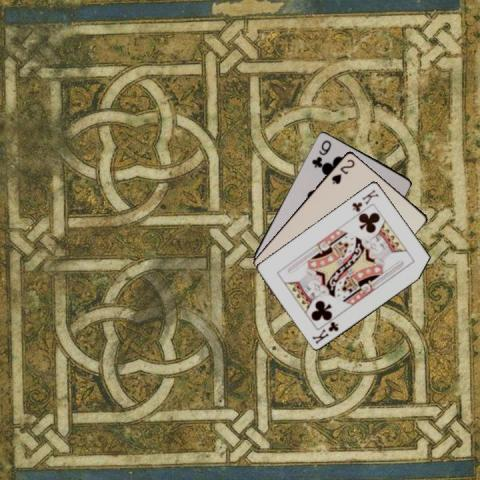2s: (329, 156, 356, 185)
9c: (308, 136, 332, 168)
Kc: (349, 186, 380, 213), (309, 318, 340, 345)
